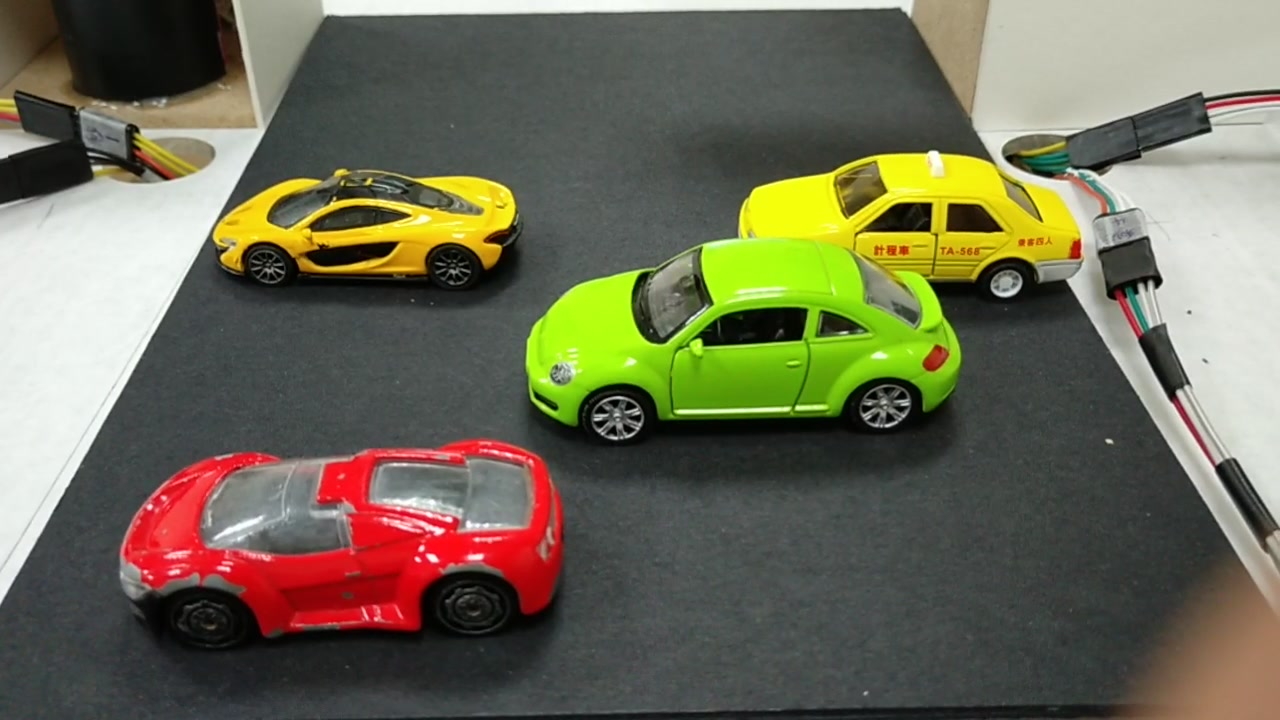car: (123, 450, 567, 633), (534, 253, 967, 425), (737, 159, 1084, 300), (213, 174, 520, 288)
